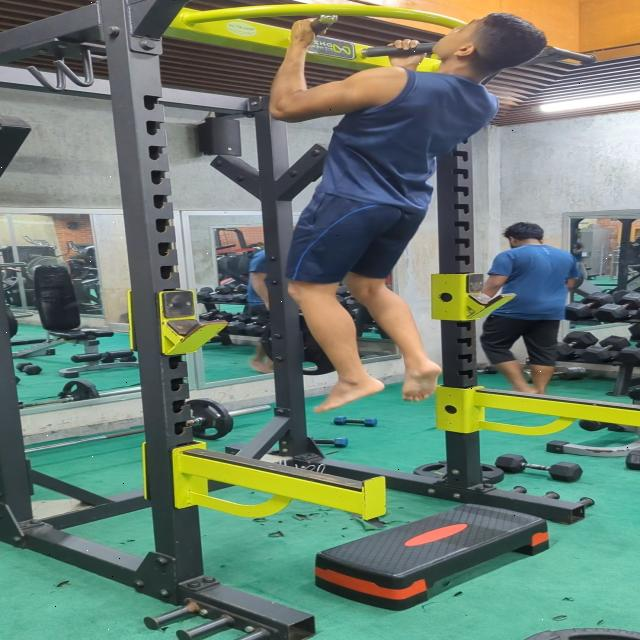Normal_PullUps: (255, 10, 555, 416)
